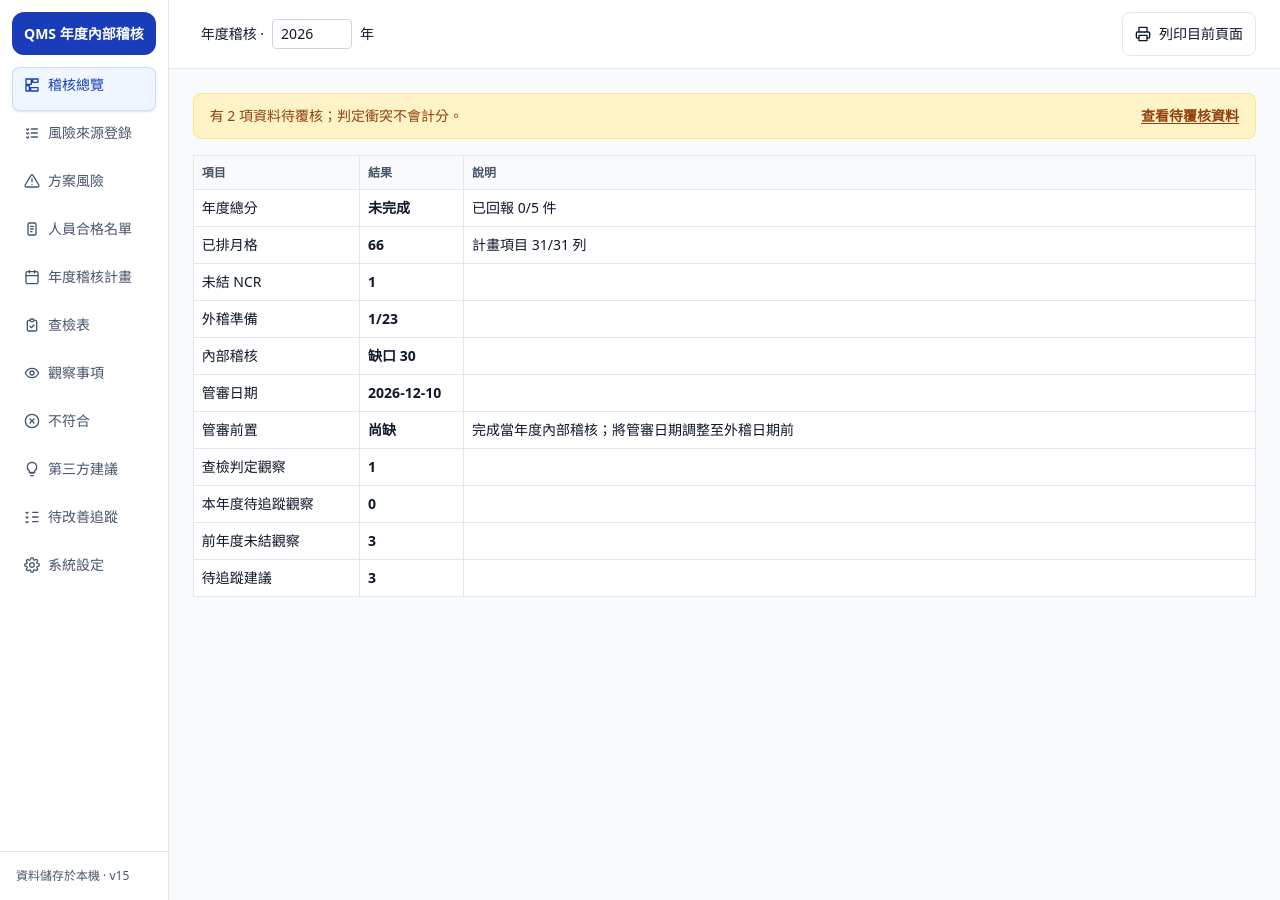
Test: Personnel list columns › shows simplified auditor columns and edit form without QP scope fields
Click the button "人員合格名單".
click(84, 233)  # box [12,211,156,255]
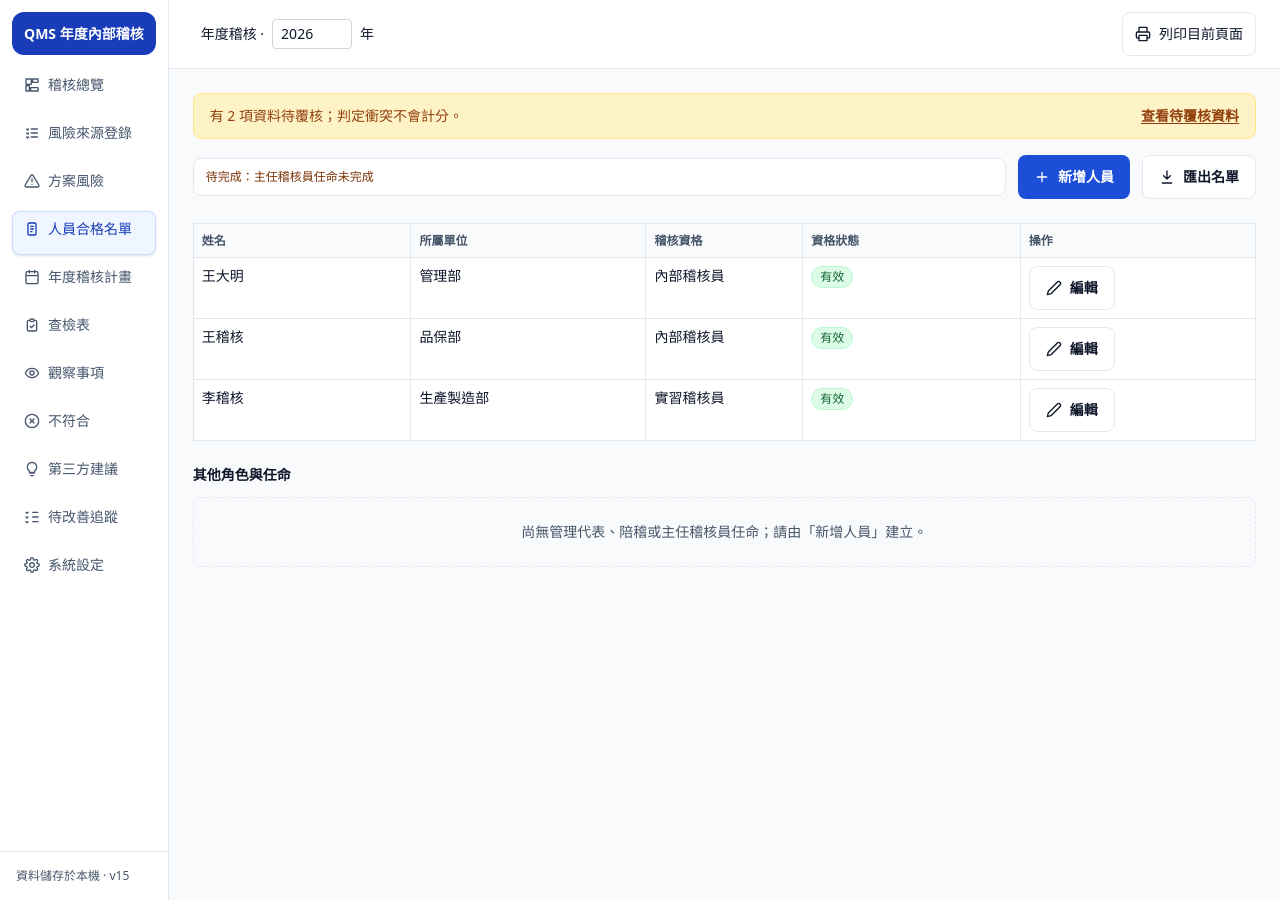
Expected: the button "移至回收區" is not shown
Expected: the column heading "稽核資格" is shown, [646,224,803,258]
Expected: the buttons read "編輯", in this order
Click the button "編輯" in the row of "王大明".
click(1072, 288)  # box [1029,266,1115,310]
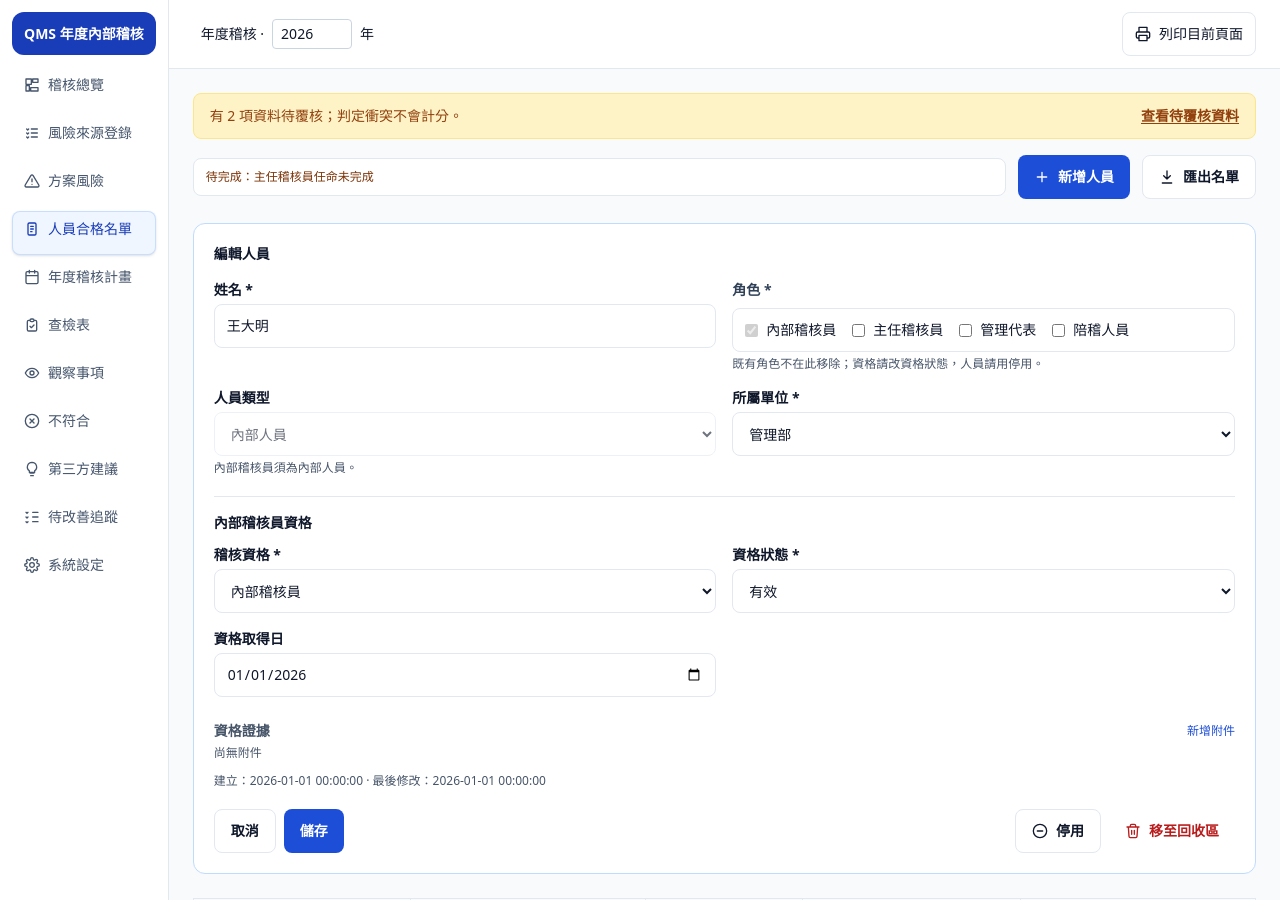
Expected: the heading "編輯人員" is shown, [214,244,270,263]
Expected: the dropdown labelled "稽核資格 *" is shown, [214,569,716,613]
Expected: the dropdown labelled "所屬單位 *" is shown, [732,412,1235,456]
